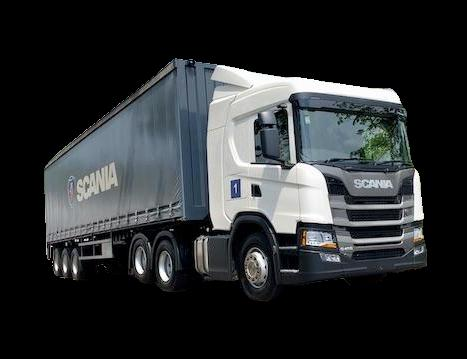truck: (43, 58, 426, 301)
